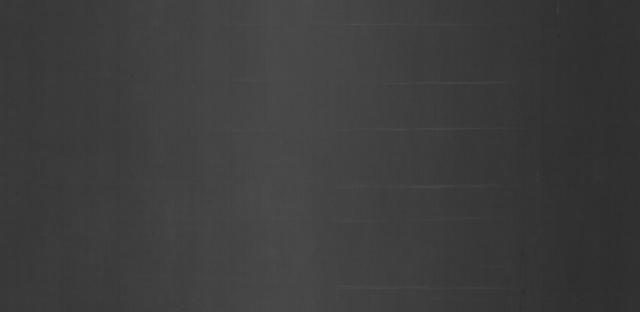waist_folding: (358, 28, 546, 287)
